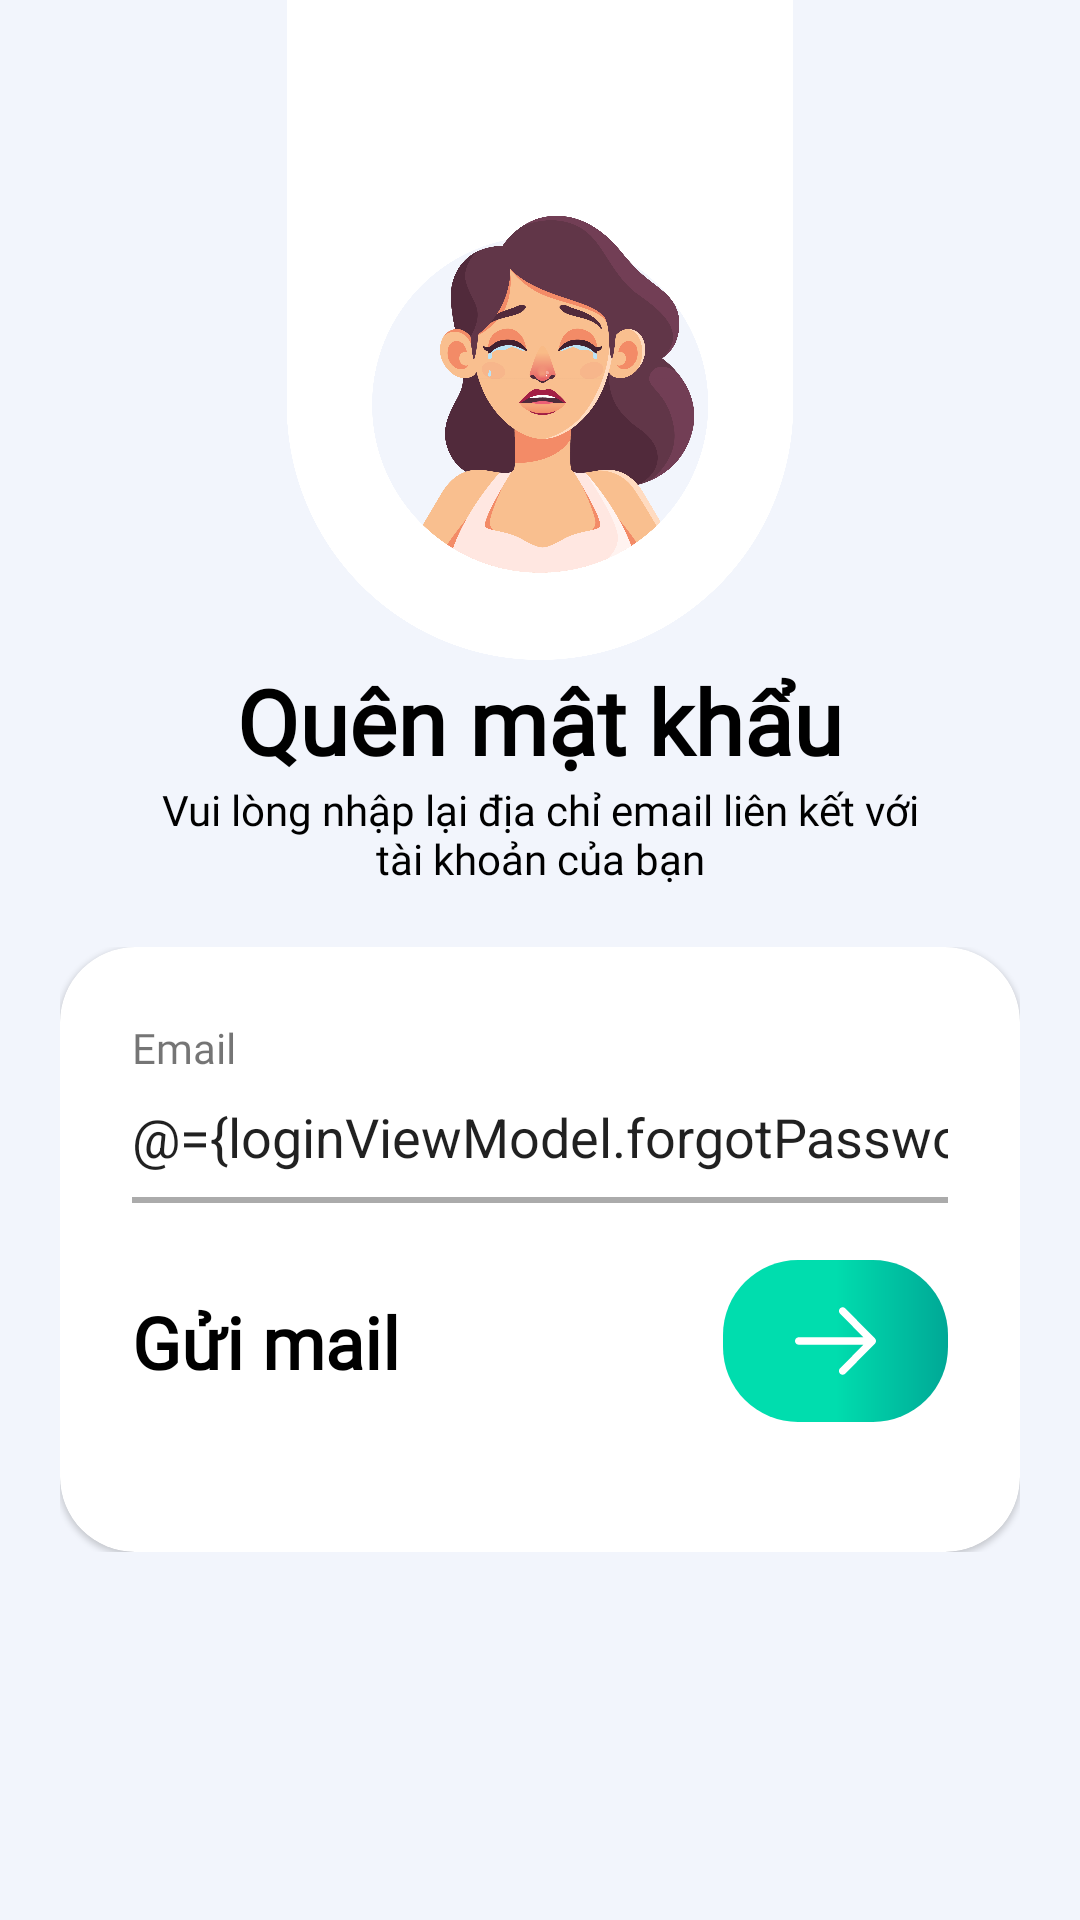

Icons on this 1080*1920 Android screen, each with its box as (x1=x1, y1=y1, x2=x2, y2=y2):
arrow right: (x1=723, y1=1260, x2=948, y2=1422)
